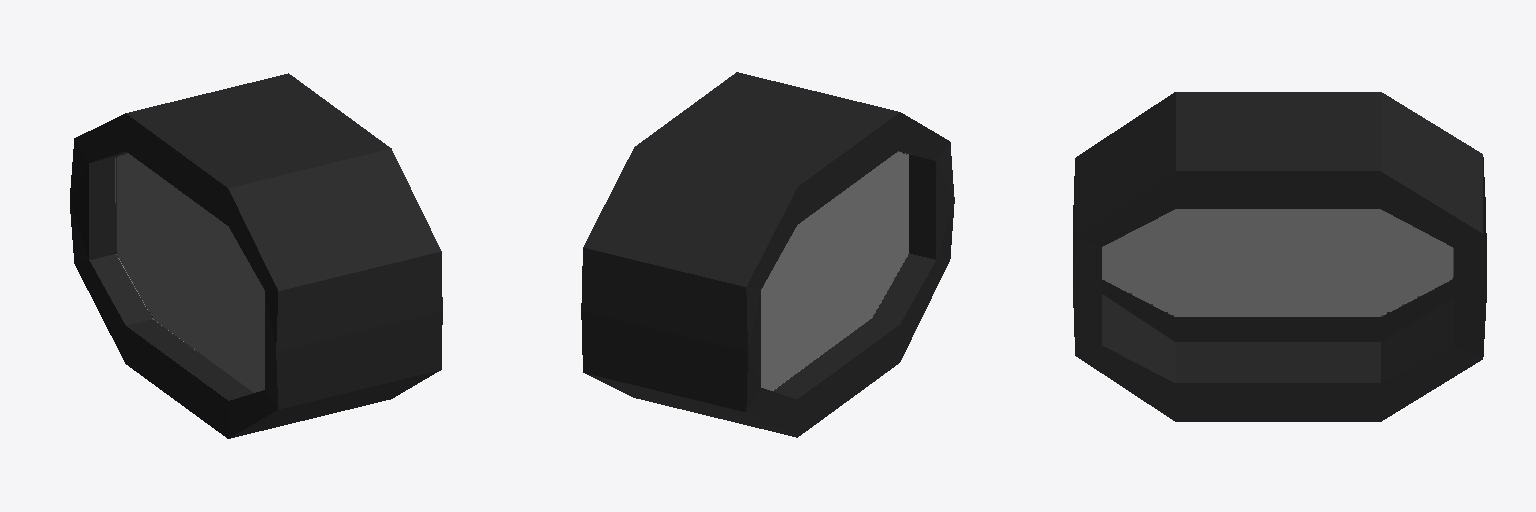
3 renders of one model, left to right at view 1: azimuth 30°, elevation 25°; view 2: azimuth 150°, elevation 25°; view 3: azimuth 270°, elevation 25°, orthographic.
Parts seen in each view (by area): view 1: Oruga_Cube.005; view 2: Oruga_Cube.005; view 3: Oruga_Cube.005.
Part boxes in pixels (left/top/right/bottom): Oruga_Cube.005: left=70, top=73, right=442, bottom=438; Oruga_Cube.005: left=581, top=72, right=954, bottom=437; Oruga_Cube.005: left=1073, top=92, right=1486, bottom=421.
Bounding box in the file's own units: 0.8321 × 1.2 × 1.79.
1 materials, 1 textured.